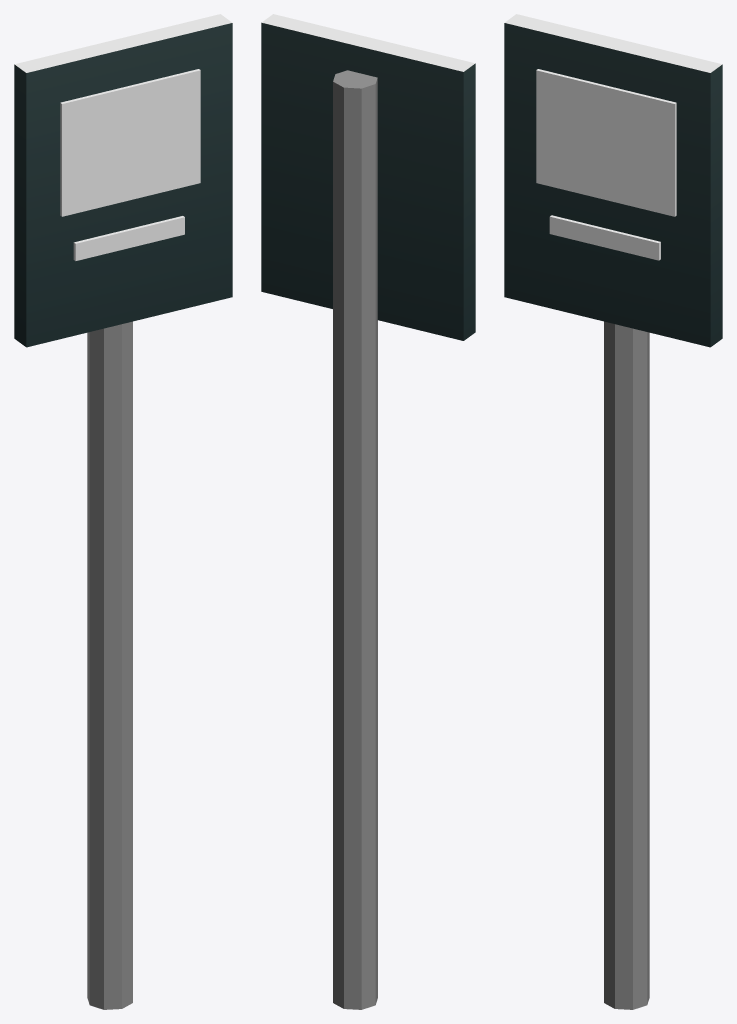
Rendered from placa.fbx.
3 renders of one model, left to right at view 1: azimuth 30°, elevation 25°; view 2: azimuth 150°, elevation 25°; view 3: azimuth 330°, elevation 25°, orthographic.
Parts seen in each view (by area): view 1: pCylinder30; view 2: pCylinder30; view 3: pCylinder30.
Part boxes in pixels (x1=…): pCylinder30: x1=14, y1=14, x2=232, y2=1009; pCylinder30: x1=261, y1=14, x2=475, y2=1009; pCylinder30: x1=504, y1=14, x2=722, y2=1009.
Bounding box in the file's own units: 0.2769 × 1.24 × 0.0769.
